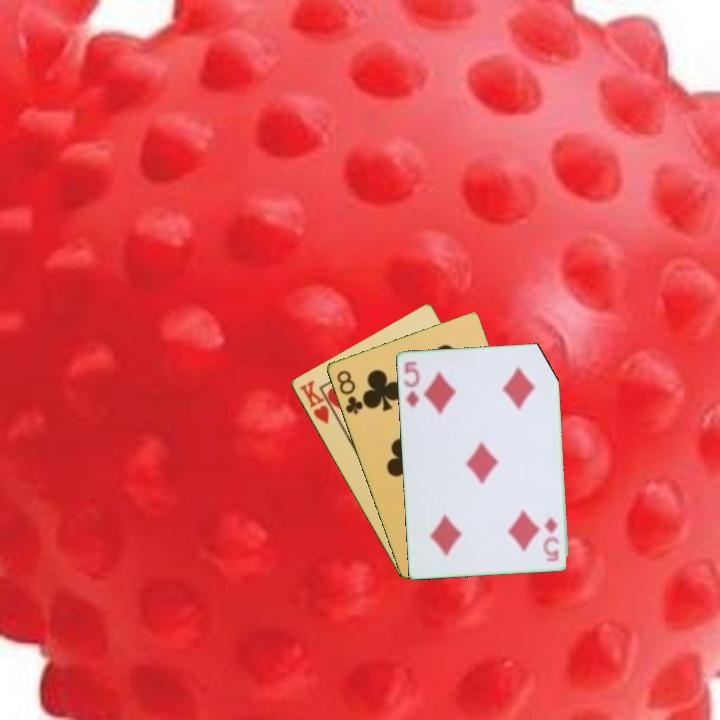5d: (400, 357, 422, 410), (540, 512, 562, 564)
8c: (333, 366, 366, 417)
Kh: (295, 377, 341, 427)
